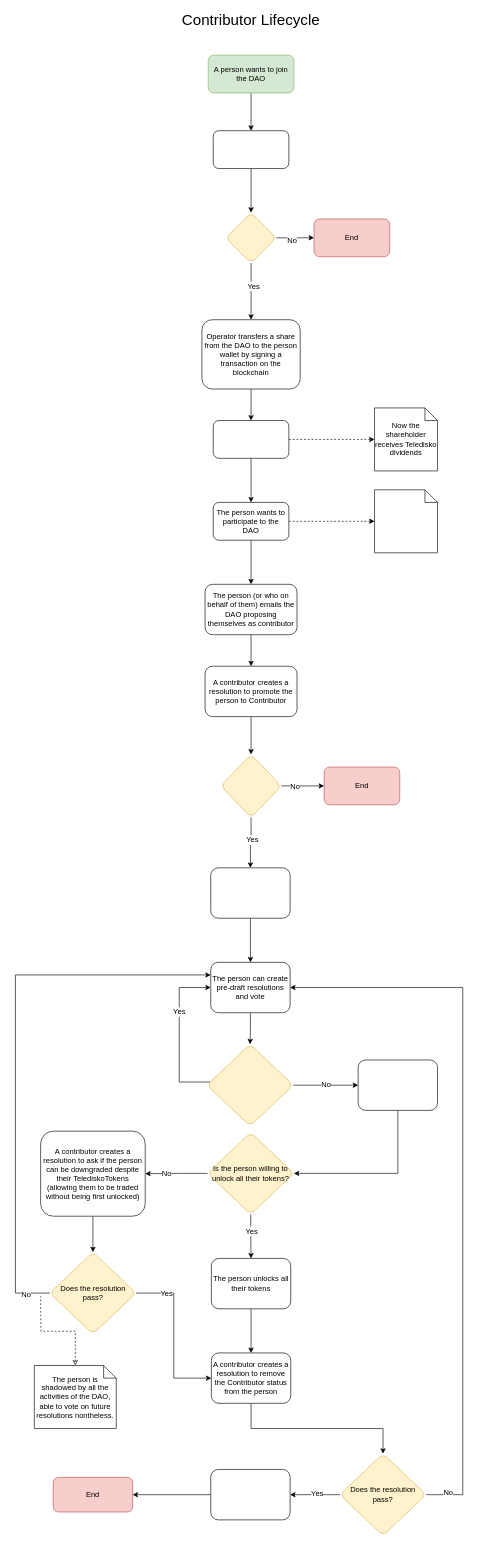
Some shapes in this 479 by 1547 pixel diagram are drawn without their labels. The box of each missing label's shape, as (x1, y1, x2, y2) in pixels:
Did KYC pass?: (225, 212, 276, 263)
Is the person behaving correctly and willing to stay in the DAO?: (206, 1044, 293, 1126)
Operator signs a transaction to assign the Contributor role to the person: (210, 867, 290, 918)
Propose resolutions and vote: (374, 489, 438, 553)
Resolution passes?: (220, 754, 281, 817)
The Operator downgrades the person to shareholder: (210, 1469, 290, 1520)
The person has now Shareholder status: (213, 420, 289, 458)
The person is asked to unlock all their TelediskoTokens: (358, 1059, 438, 1110)
The person undertakes the KYC: (213, 130, 289, 169)
